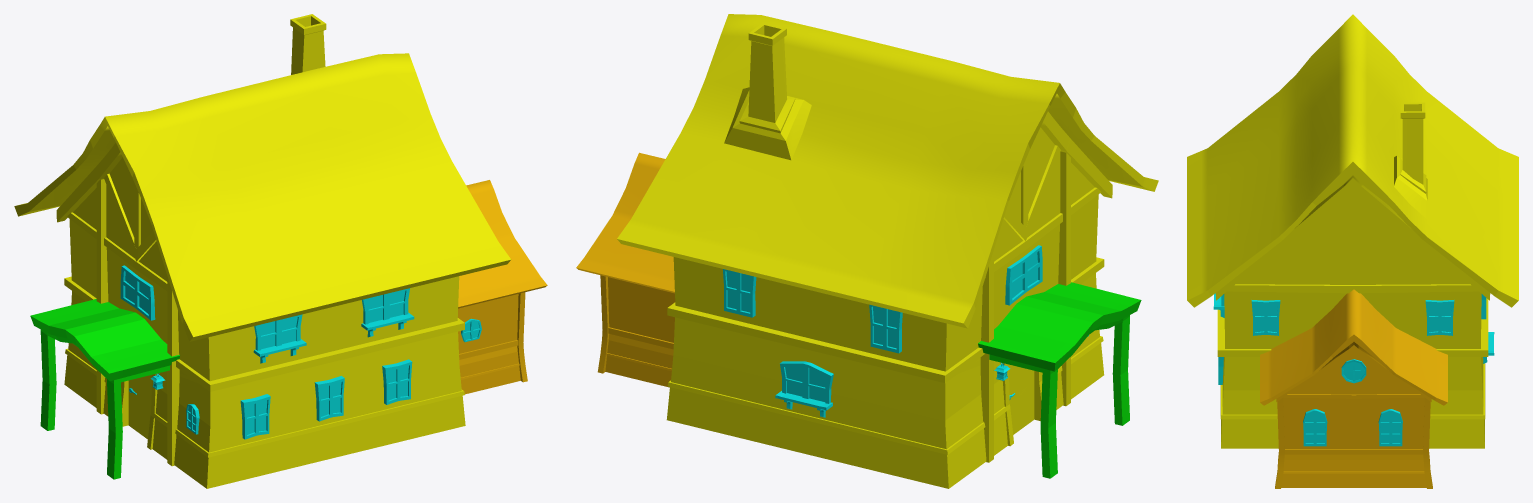
The model's file is house3.fbx.
The picture shows the model from 3 angles, left to right: view 1: azimuth 30°, elevation 25°; view 2: azimuth 150°, elevation 25°; view 3: azimuth 270°, elevation 25°; orthographic projection. The views are drawn at different scales.
Visible parts, largest first — view 1: house3, house3_mini1, genkan, house3_mado; view 2: house3, house3_mini1, genkan, house3_mado; view 3: house3, house3_mini1, house3_mado.
Boxes of the visible parts, x1,y1,x2,y2 form: house3: (14, 14, 511, 488); house3_mini1: (457, 180, 547, 394); genkan: (30, 299, 179, 479); house3_mado: (120, 265, 481, 439); house3: (617, 14, 1158, 488); house3_mini1: (576, 152, 675, 387); genkan: (978, 282, 1141, 478); house3_mado: (723, 245, 1088, 417); house3: (1187, 14, 1518, 448); house3_mini1: (1260, 289, 1447, 488); house3_mado: (1213, 293, 1494, 446).
Size of the model in its own units: 972 by 745 by 705.
